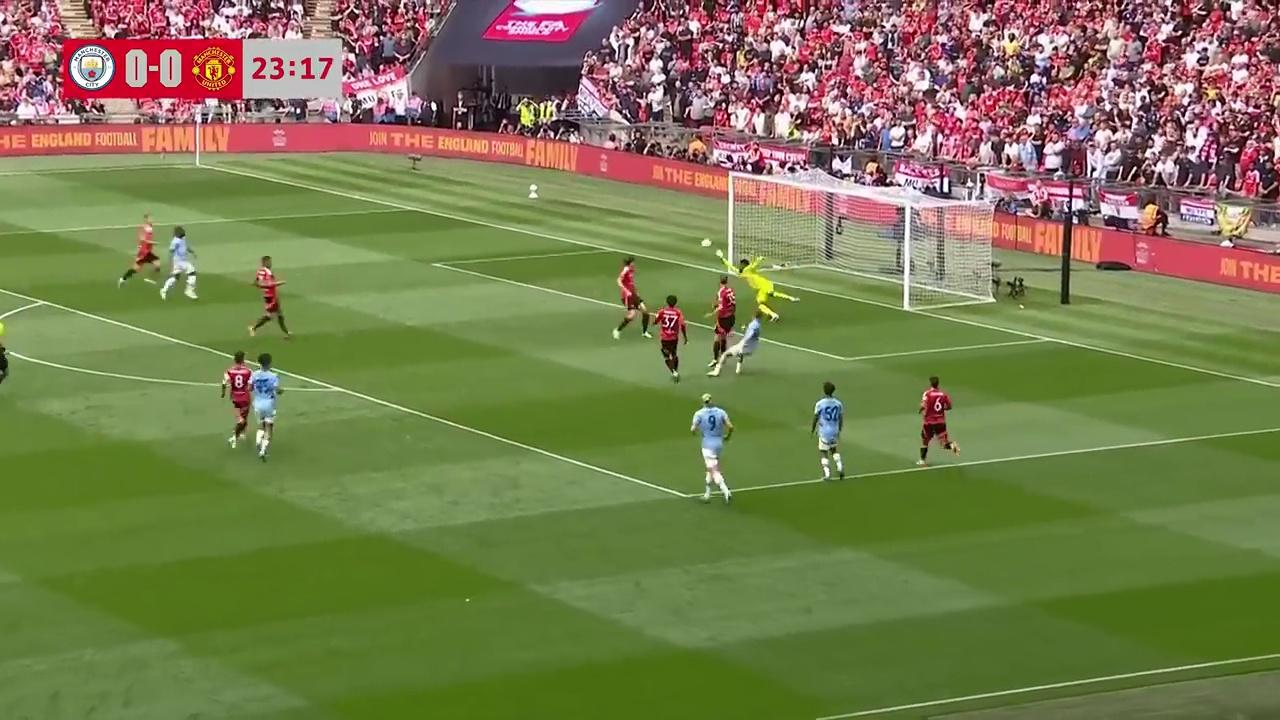ball: (700, 235, 712, 248)
player: (719, 238, 780, 321), (689, 393, 733, 504), (220, 351, 263, 451), (244, 353, 283, 459), (917, 375, 961, 466), (809, 381, 845, 482), (249, 255, 292, 338), (157, 226, 199, 301), (653, 294, 688, 384), (118, 213, 161, 286), (614, 256, 650, 341), (705, 277, 736, 370), (722, 310, 760, 375)
referee: (0, 315, 10, 398)
